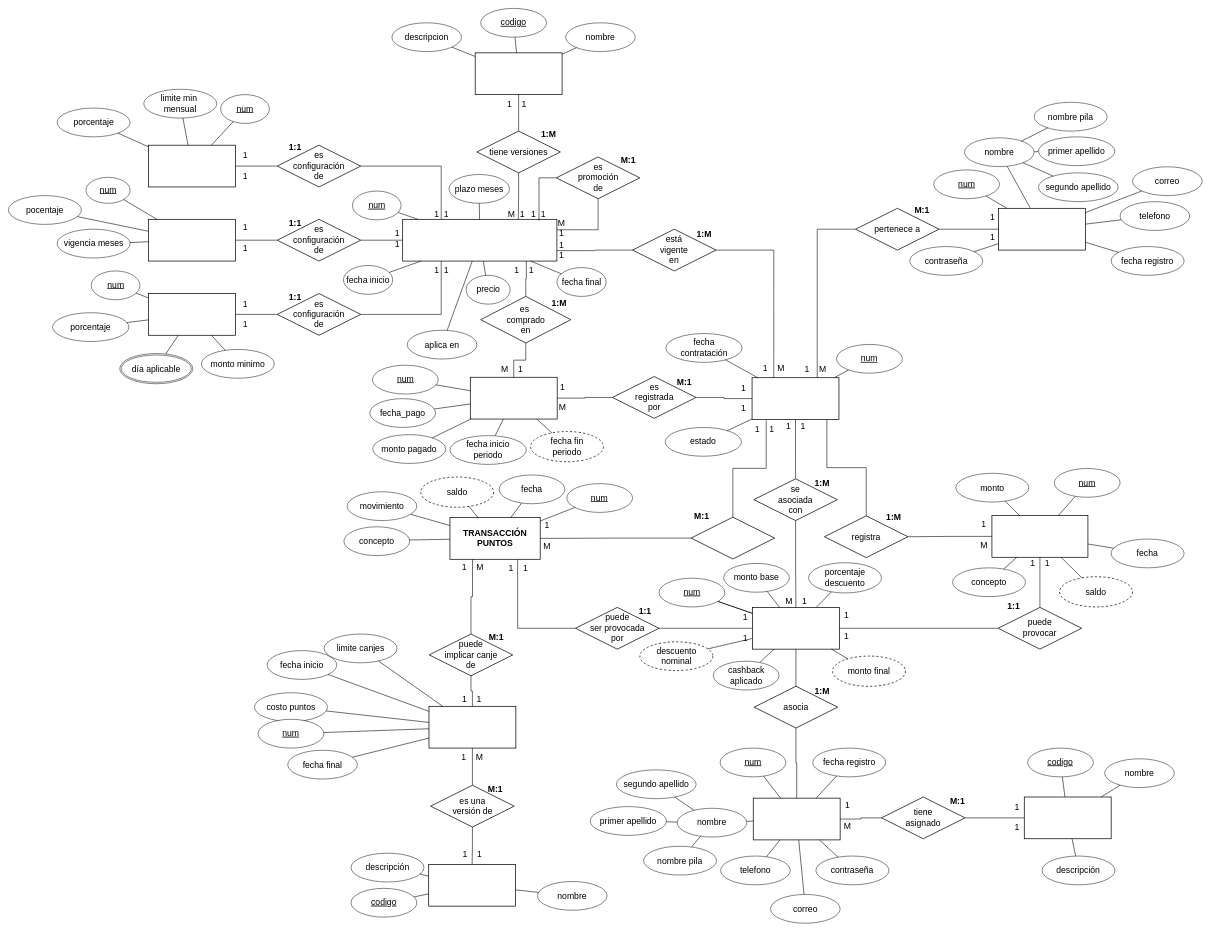
Image size: 1211x932. Some labels were removed from this diagram. The centre of each missing label's shape, as x and y in pixels:
"COMPRA" belongs at [796,628].
"CONFIGURACIÓN CASHBACK" belongs at [192,166].
"CONFIGURACIÓN DESCUENTO" belongs at [192,314].
"CONFIGURACIÓN PUNTOS" belongs at [192,240].
"es registrada en" belongs at [733,538].
"MEMBRESIA" belongs at [795,398].
"MIEMBRO" belongs at [1042,229].
"PLAN" belongs at [518,73].
"RECOMPENSA" belongs at [472,885].
"RENOVACION" belongs at [513,398].
"ROL" belongs at [1067,817].
"TRANSACCIÓN CASHBACK" belongs at [1039,536].
"USUARIO" belongs at [796,819].
"VERSION PLAN" belongs at [479,240].
"VERSIÓN RECOMPENSA" belongs at [472,727].
